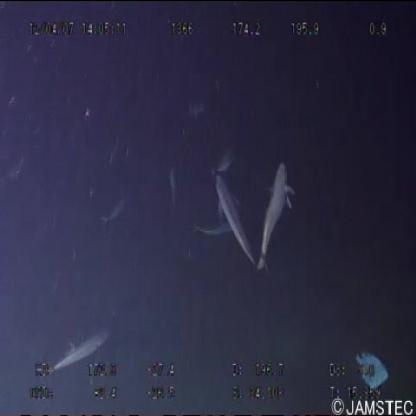Rác: (357, 352, 389, 389)
